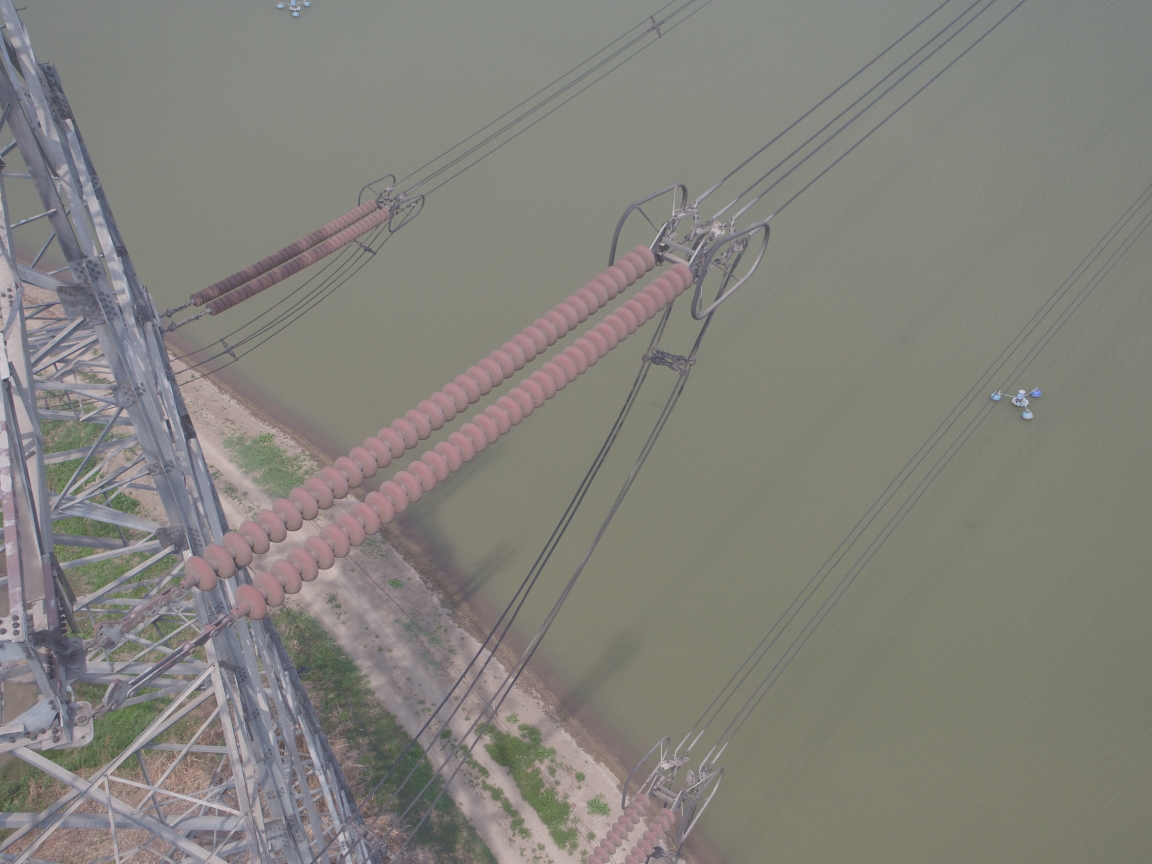insulator: (143, 239, 714, 649), (177, 192, 395, 323)
